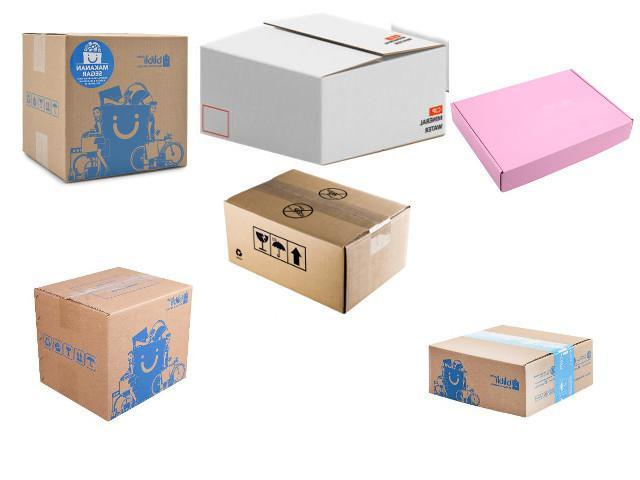box: (224, 166, 416, 313)
